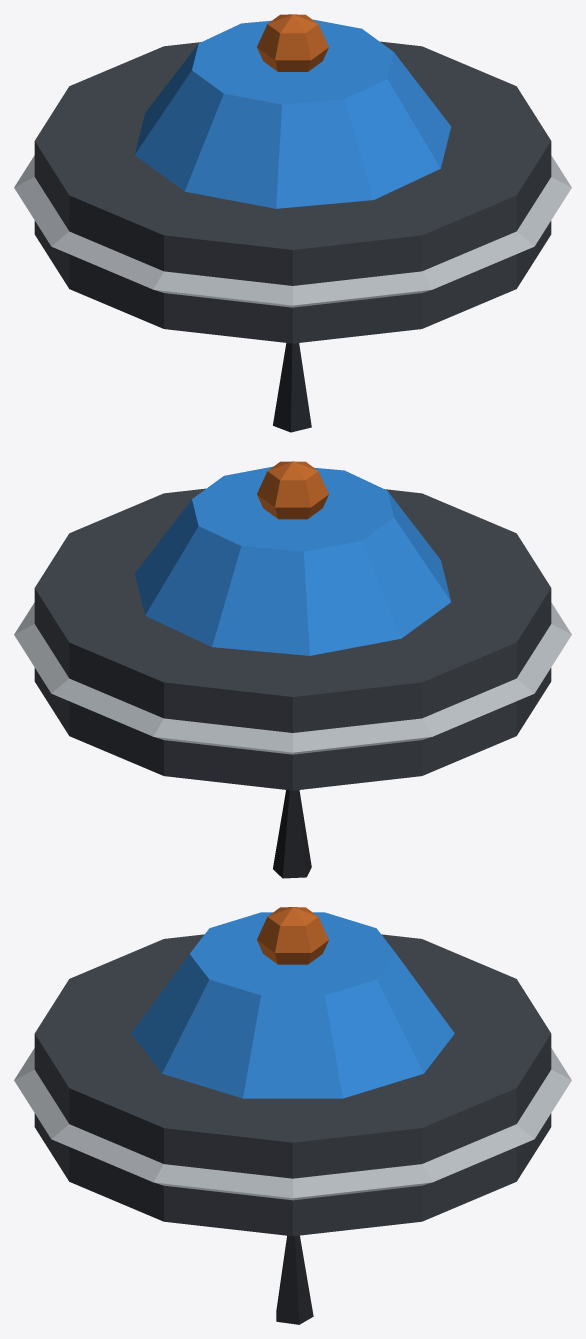
File: mine-electrifying.glb
The picture shows the model from 3 angles, top to bottom: view 1: azimuth 30°, elevation 25°; view 2: azimuth 150°, elevation 25°; view 3: azimuth 270°, elevation 25°; orthographic projection.
Visible parts, largest first — view 1: m; view 2: m; view 3: m.
Part boxes in pixels (x1,y1,x2,y2): m: (14, 14, 571, 432); m: (14, 461, 571, 878); m: (14, 907, 571, 1324).
Bounding box in the file's own units: 0.1 × 0.0611 × 0.1.
